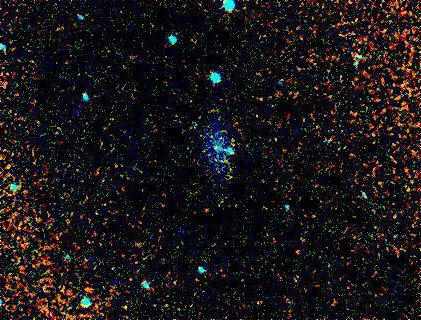star: (72, 272, 102, 302)
